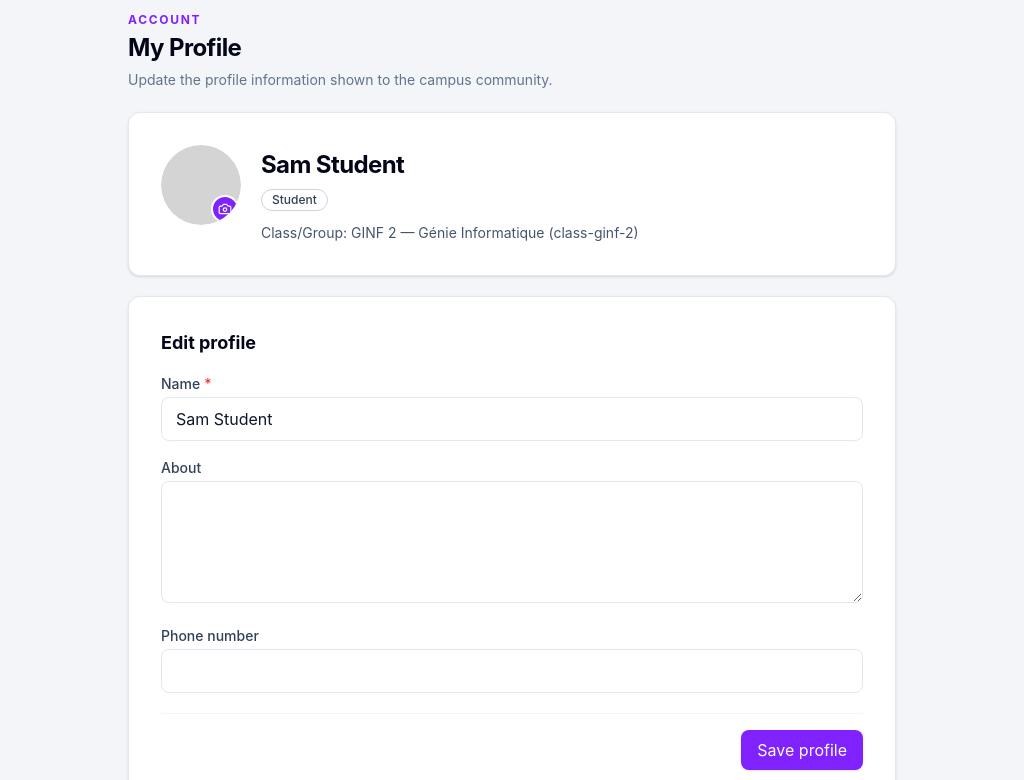
Test: user profiles › does not report success when the localStorage write fails
Earlier steps of the test are not shown.
Click the button "Save profile" at (802,750), box [741, 730, 863, 770]
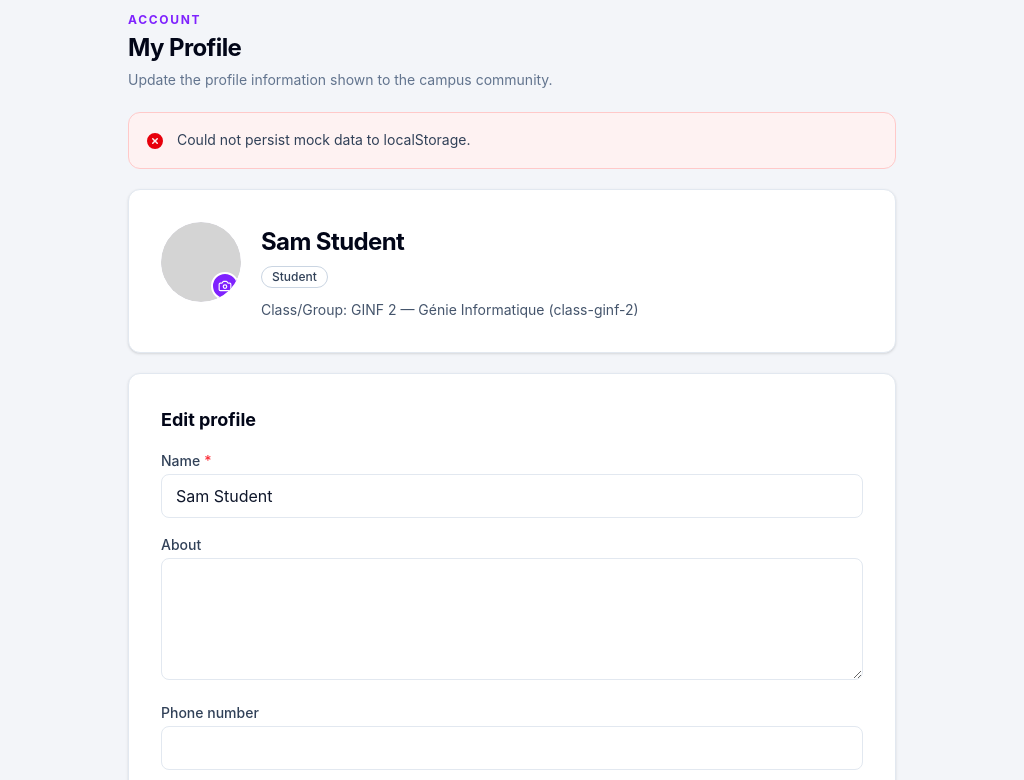
Check: the text "Could not persist mock data to localStorage." is shown, box [177, 131, 470, 148]
